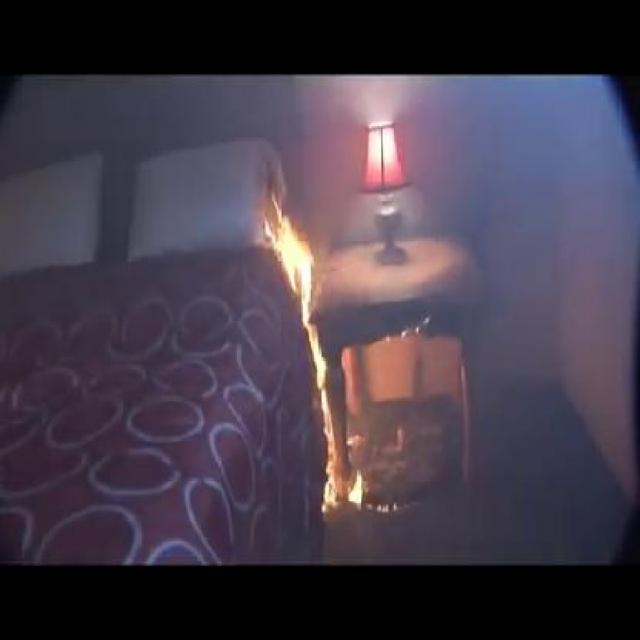fire: (270, 205, 386, 548)
